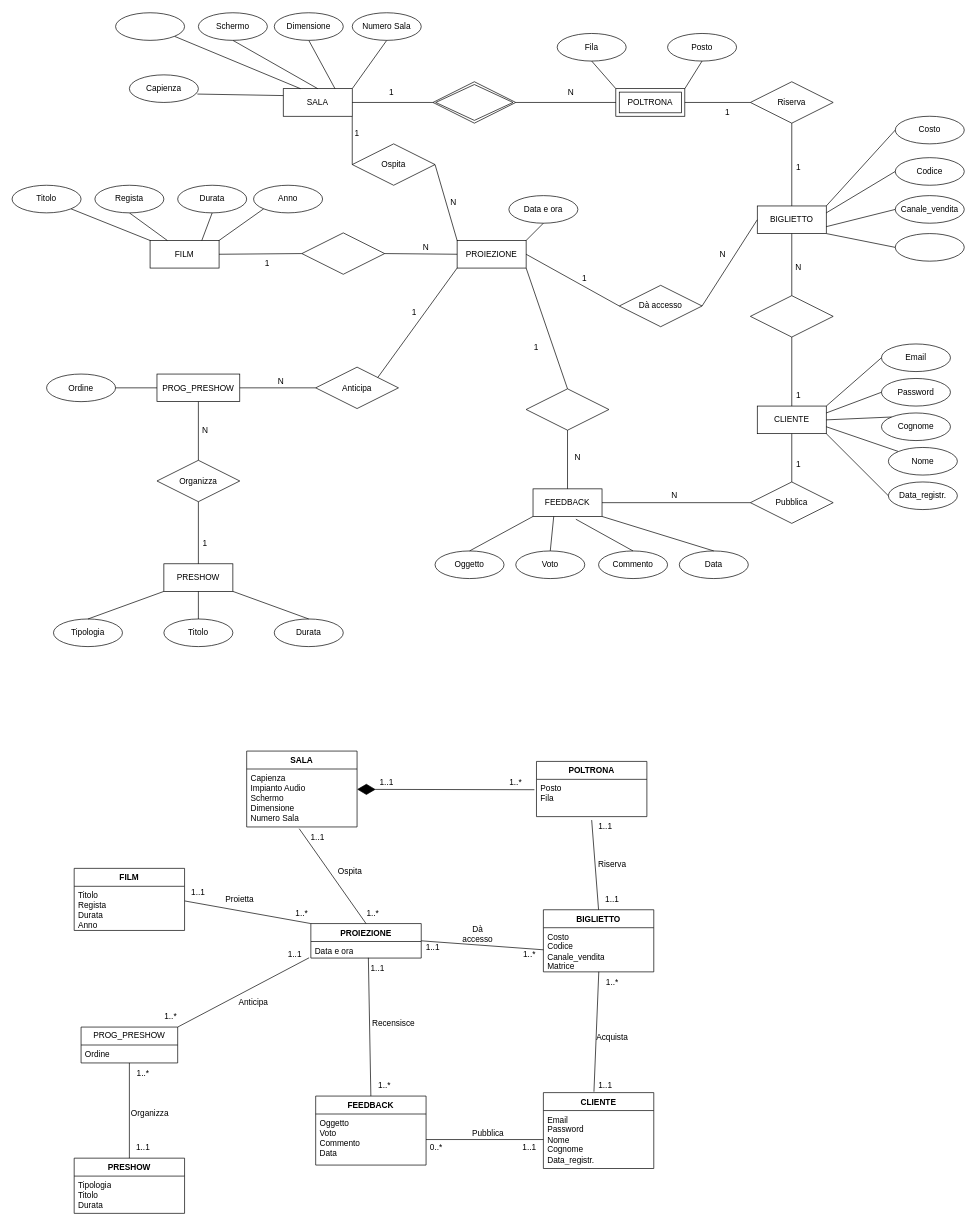
Image size: 976x1228. Some labels were removed from this diagram. The shapes that lost their labels are listed below. From the top down, each one's box as (x1, y1, x2, y2) in pixels, then its label:
(115, 12, 185, 40): Impianto Audio
(432, 81, 516, 123): Composta da
(301, 232, 385, 274): Proiettato da
(895, 233, 964, 261): Matrice
(750, 295, 833, 337): Compra
(525, 388, 609, 430): Recensita da
